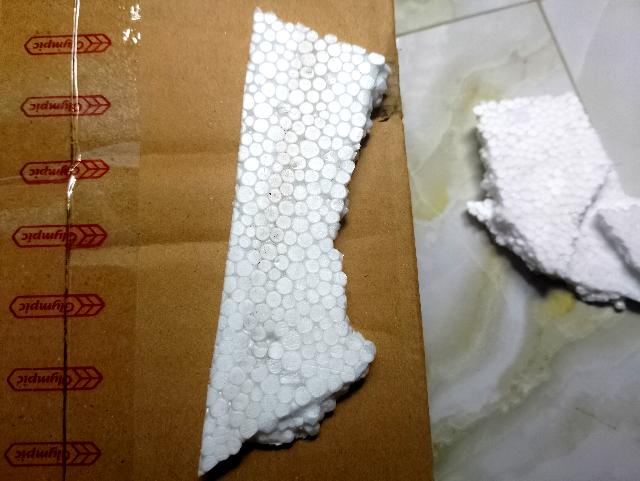cocksheet: (237, 10, 373, 452), (465, 89, 640, 312)
